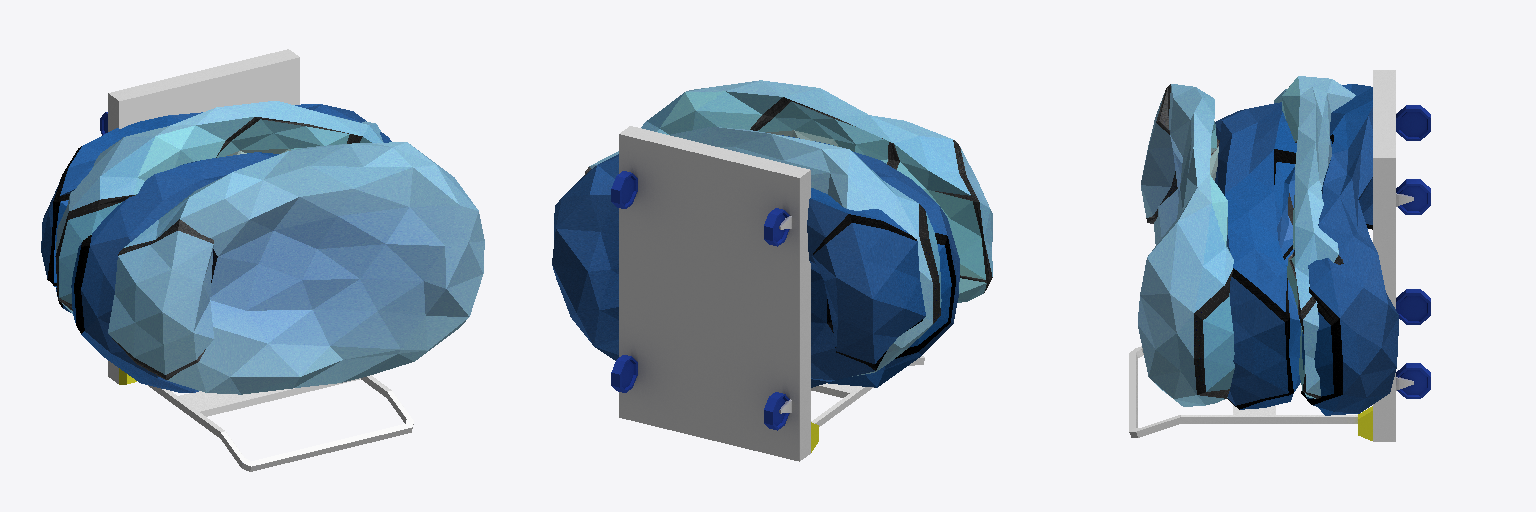
3 renders of one model, left to right at view 1: azimuth 30°, elevation 25°; view 2: azimuth 150°, elevation 25°; view 3: azimuth 270°, elevation 25°, orthographic.
Visible parts, largest first — view 1: bag_Icosphere.003, bag.001_Icosphere.004, trolley_Cart_Cube.005, potato_Icosphere, potato.001_Icosphere.001; view 2: trolley_Cart_Cube.005, potato.001_Icosphere.001, bag_Icosphere.003, bag.001_Icosphere.004, potato_Icosphere; view 3: bag_Icosphere.003, potato_Icosphere, potato.001_Icosphere.001, trolley_Cart_Cube.005, bag.001_Icosphere.004.
Boxes of the visible parts, <box> form: bag_Icosphere.003: <box>108,142,484,394</box>; bag.001_Icosphere.004: <box>55,101,383,313</box>; trolley_Cart_Cube.005: <box>100,49,413,471</box>; potato_Icosphere: <box>71,152,278,392</box>; potato.001_Icosphere.001: <box>41,104,391,312</box>; trolley_Cart_Cube.005: <box>611,126,924,461</box>; potato.001_Icosphere.001: <box>552,154,925,387</box>; bag_Icosphere.003: <box>641,80,992,302</box>; bag.001_Icosphere.004: <box>584,127,941,376</box>; potato_Icosphere: <box>782,135,959,387</box>; bag_Icosphere.003: <box>1138,84,1234,406</box>; potato_Icosphere: <box>1215,102,1300,409</box>; potato.001_Icosphere.001: <box>1301,84,1398,415</box>; trolley_Cart_Cube.005: <box>1129,70,1430,441</box>; bag.001_Icosphere.004: <box>1274,76,1355,398</box>.
Size of the model in its own units: 1.24 by 0.9029 by 0.8679.
3 materials, 3 textured.